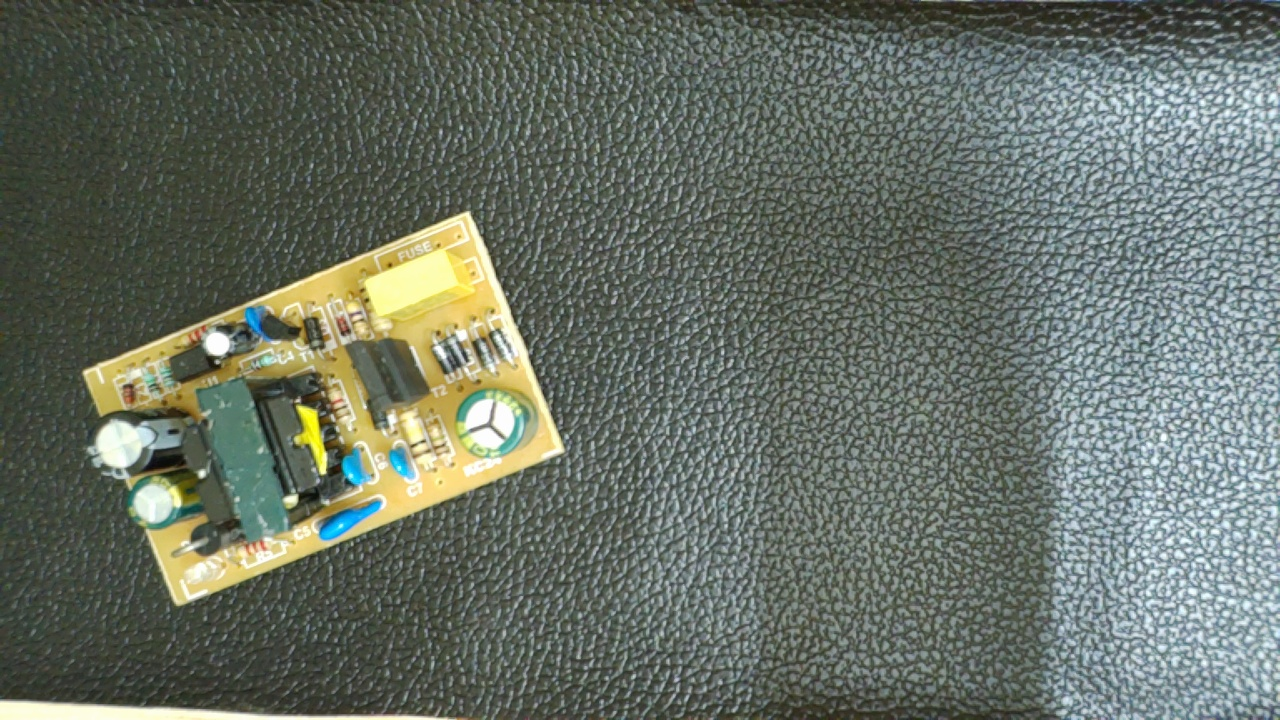hv_capacitor: (450, 387, 540, 462)
mov: (309, 495, 383, 546)
optocoupler: (162, 341, 224, 383)
